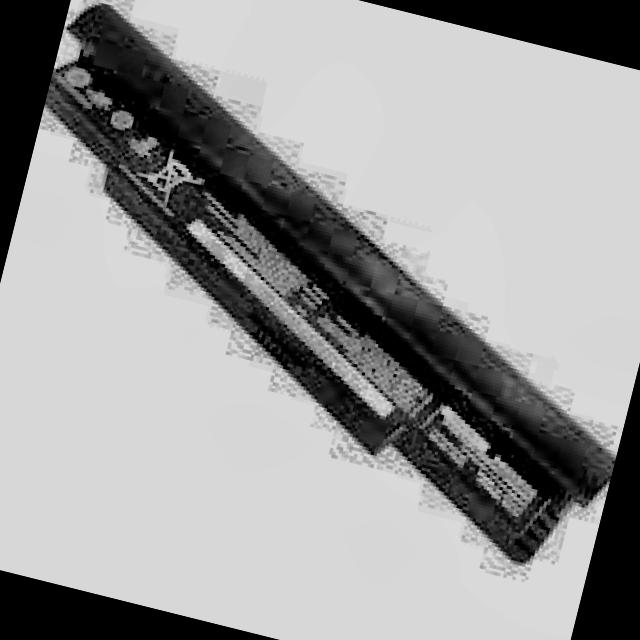Battery: (0, 1, 640, 577)
